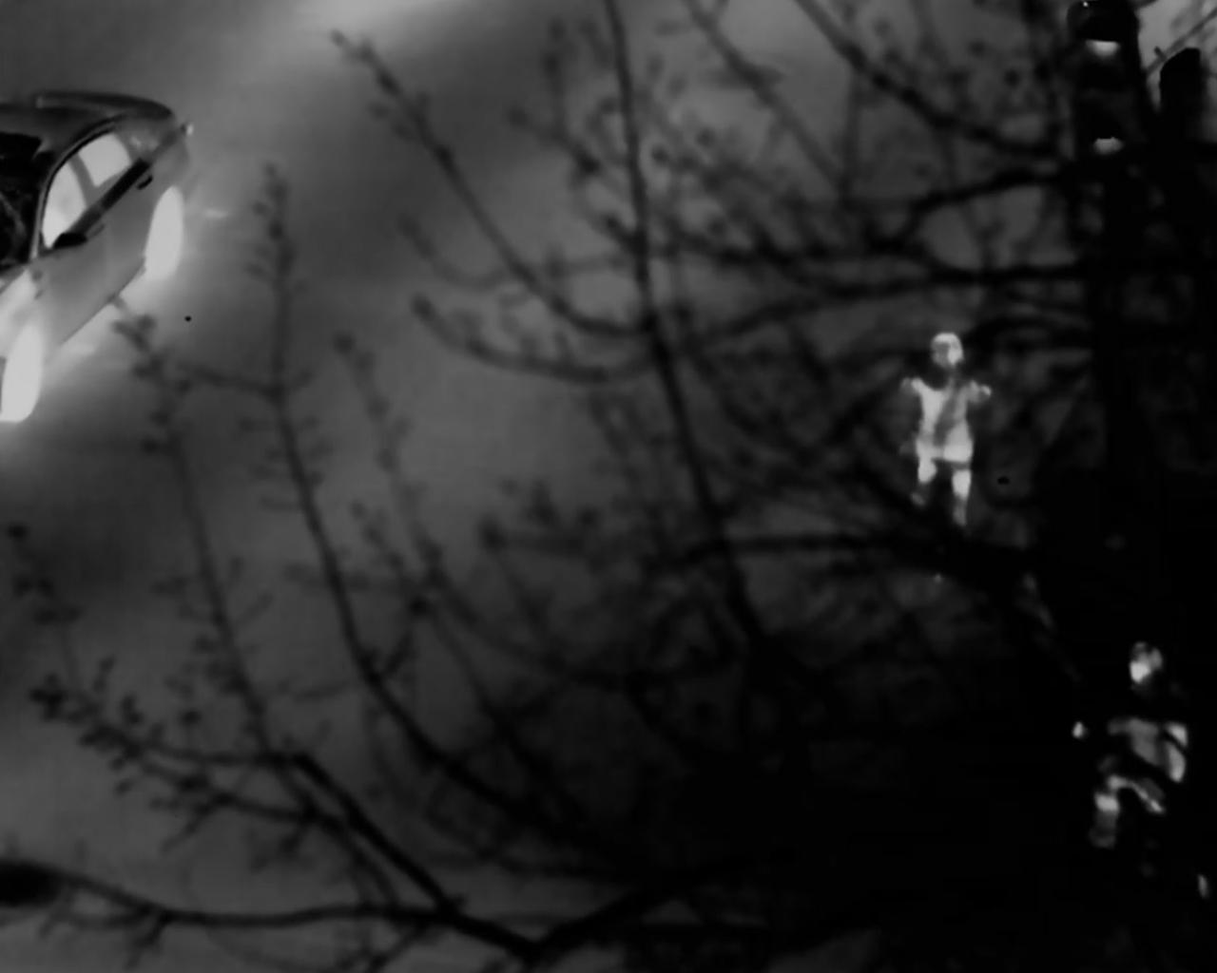person: (904, 335, 997, 510), (1099, 641, 1176, 810)
